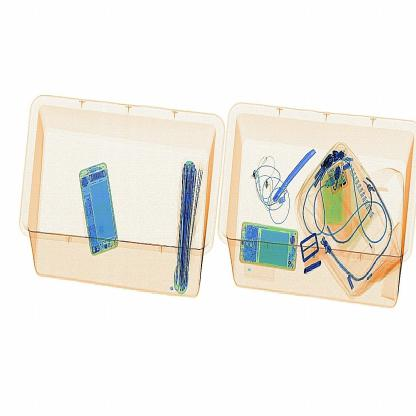pliers: (270, 141, 315, 206)
